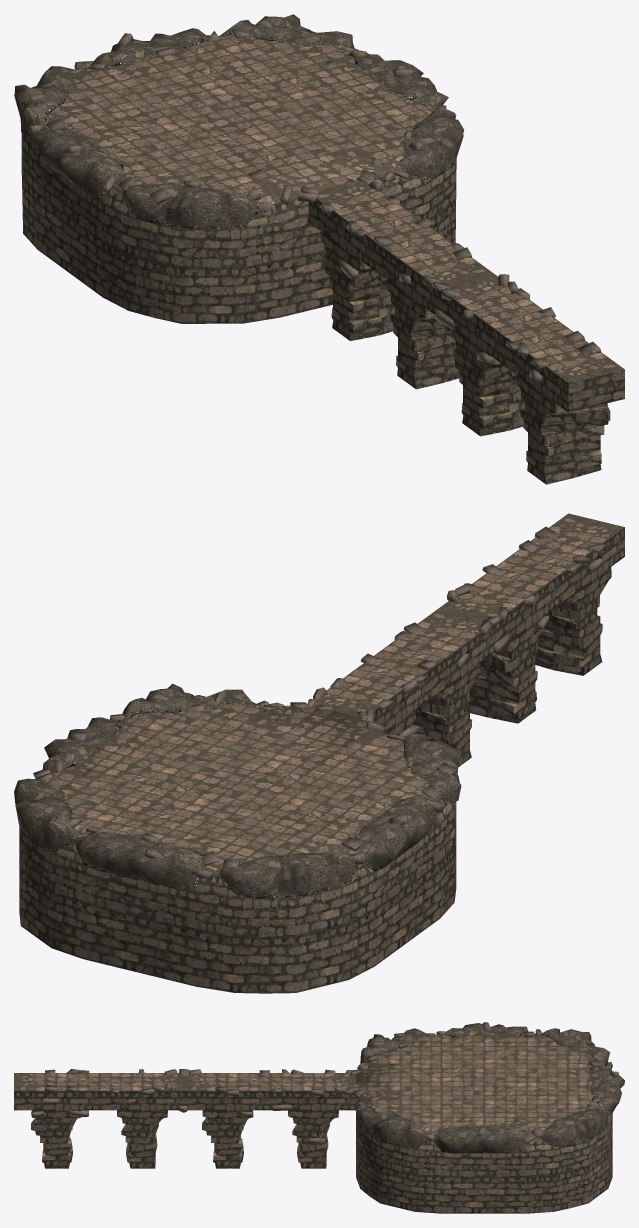
The model's file is SV_Bonepit-transformed.glb.
The picture shows the model from 3 angles, top to bottom: view 1: azimuth 30°, elevation 25°; view 2: azimuth 150°, elevation 25°; view 3: azimuth 270°, elevation 25°; orthographic projection. The views are drawn at different scales.
Visible parts, largest first — view 1: default; view 2: default; view 3: default.
Boxes of the visible parts, x1=… form: default: x1=14, y1=14, x2=624, y2=484; default: x1=14, y1=513, x2=624, y2=993; default: x1=14, y1=1022, x2=624, y2=1213.
Bounding box in the file's own units: 26.33 × 8.72 × 57.16.
3 materials, 3 textured.
